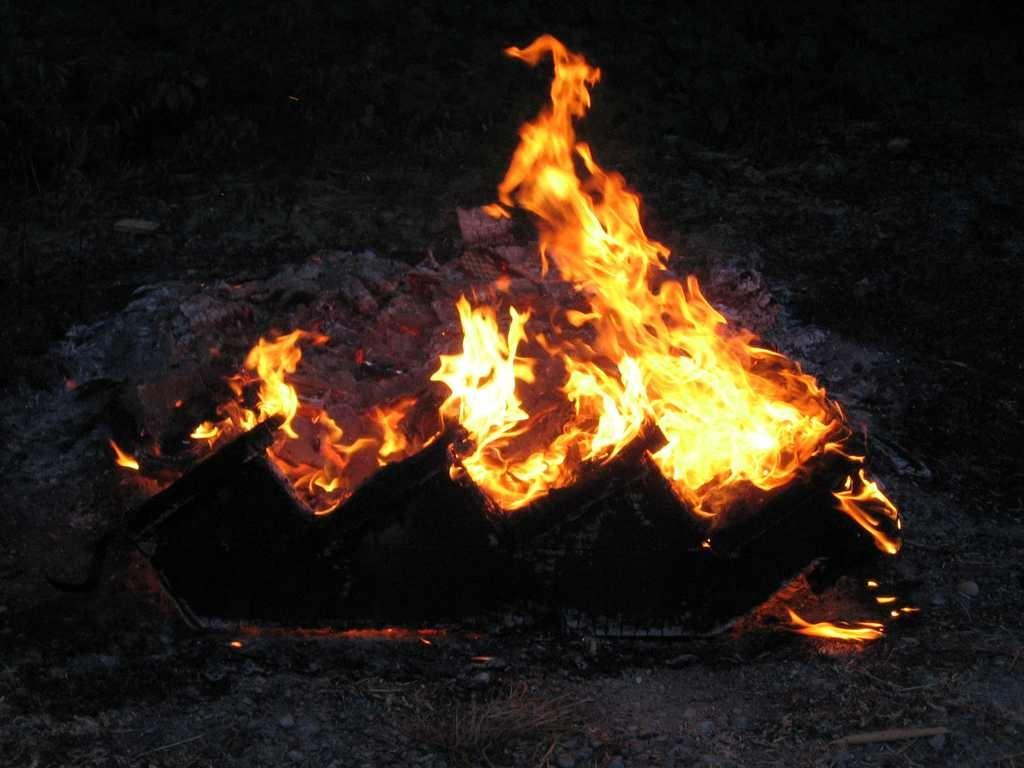fire: (654, 340, 800, 468), (530, 144, 606, 246), (466, 336, 520, 454)
